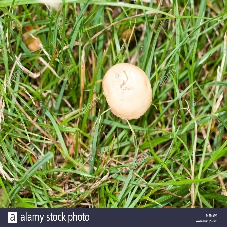mushroom: (101, 58, 155, 126)
